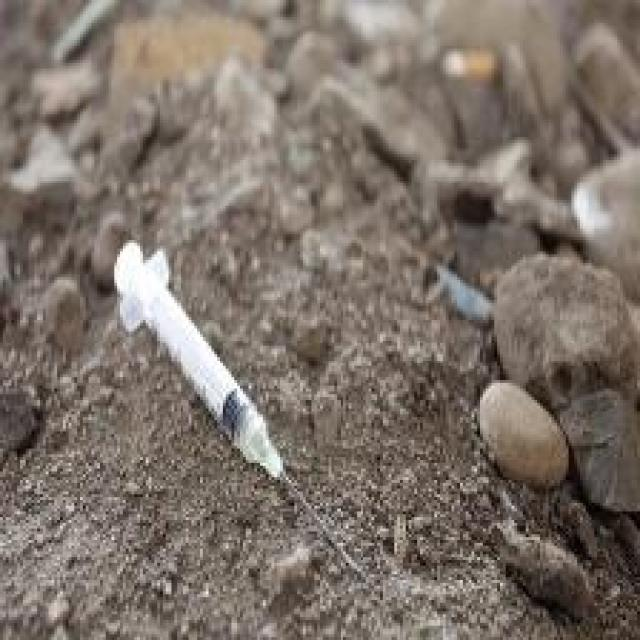syringe: (102, 215, 386, 578)
